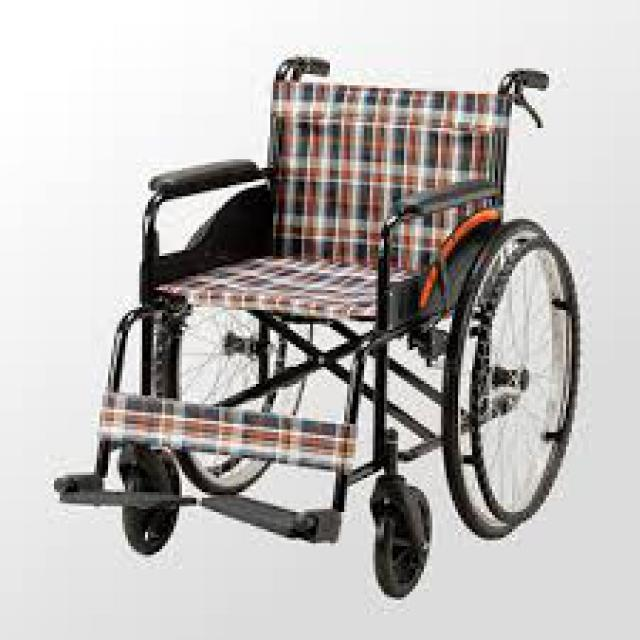wheelchair: (45, 48, 598, 614)
